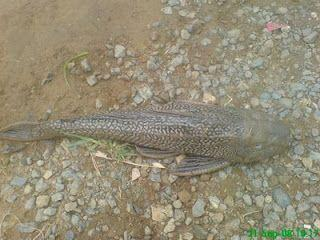Janitor Fish: (1, 98, 295, 179)
